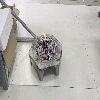fire: (40, 32, 46, 42)
